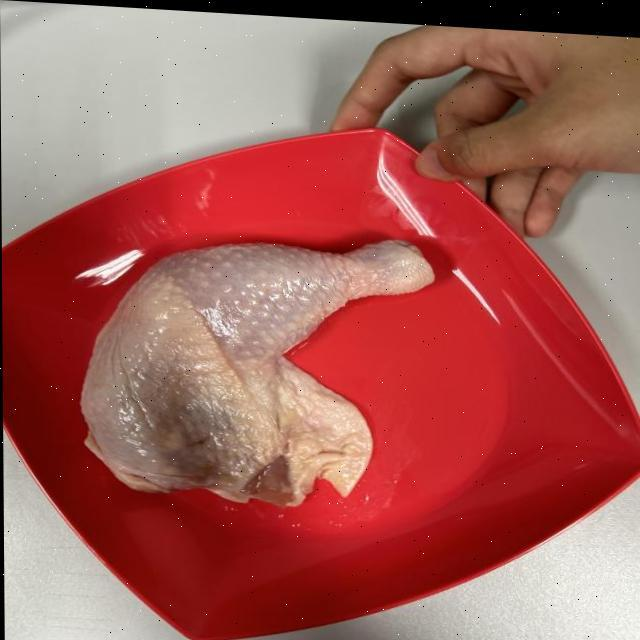quater: (74, 215, 440, 510)
